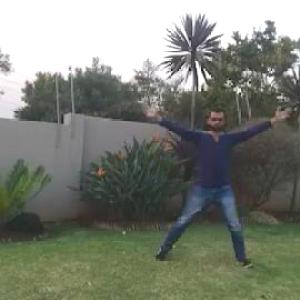takeoff: (120, 98, 270, 270)
